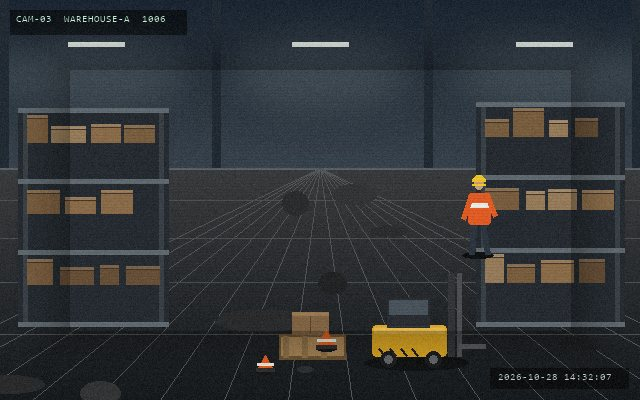cone: (315, 328, 337, 351), (255, 353, 275, 374)
forklift: (368, 271, 487, 370)
pallet: (277, 332, 347, 361)
person: (461, 173, 497, 257)
shelf: (476, 102, 624, 322), (18, 108, 168, 322)
